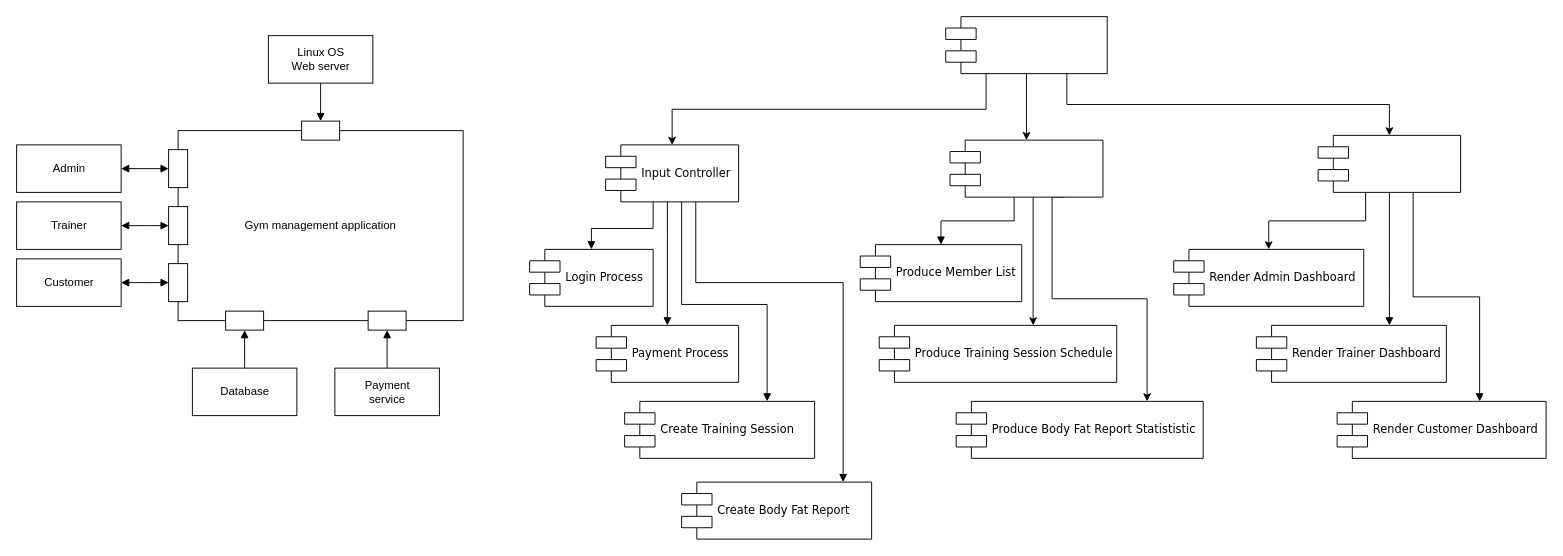
Image size: 1563x556. Some labels were removed from this diagram. The shapes that lost their labels are listed below. From the top down, each one's centre as x and y in pixels, then its label:
At point (1026, 45): "Gym Genie <<application>>".
At point (1026, 168): "Gym Management".
At point (1389, 163): "Output Controller".
